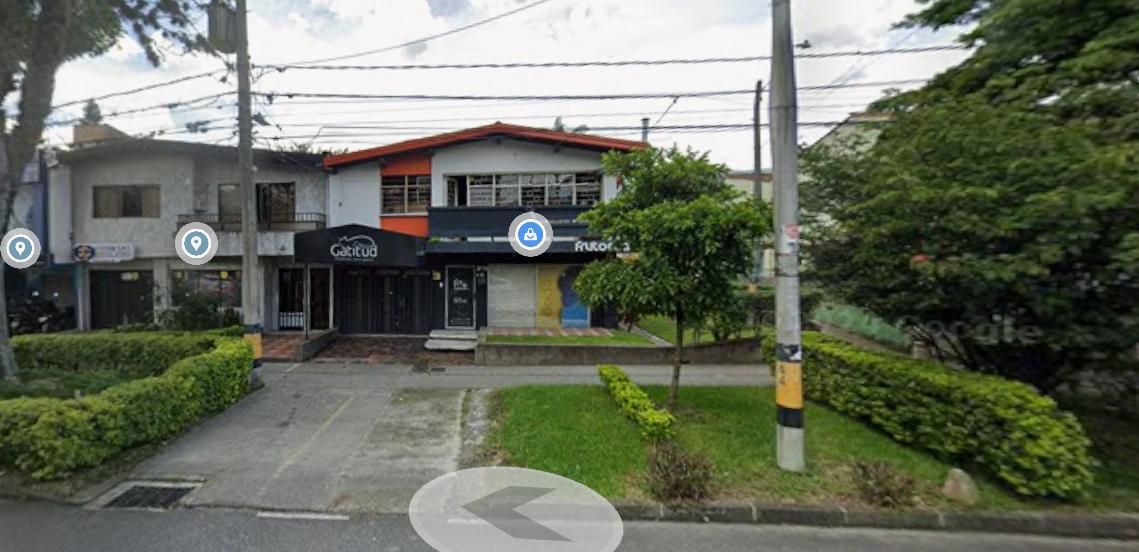casa: (294, 123, 642, 338), (44, 126, 242, 328), (254, 151, 327, 332)
poste: (209, 0, 263, 388), (769, 0, 805, 471)
